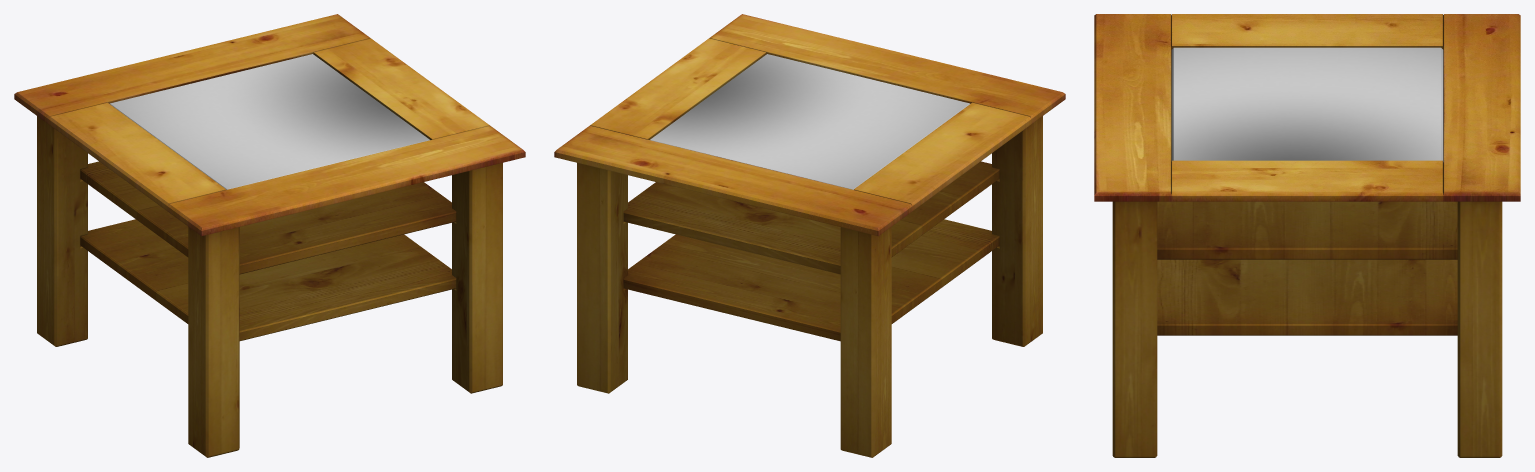
Rendered from test.glbjG2G3V37Unlz7A9Ub123.glb.
The picture shows the model from 3 angles, left to right: view 1: azimuth 30°, elevation 25°; view 2: azimuth 150°, elevation 25°; view 3: azimuth 270°, elevation 25°; orthographic projection. The views are drawn at different scales.
Parts seen in each view (by area): view 1: Wood_Table_Cube.003; view 2: Wood_Table_Cube.003; view 3: Wood_Table_Cube.003.
Boxes of the visible parts, x1=… form: Wood_Table_Cube.003: x1=14, y1=14, x2=525, y2=457; Wood_Table_Cube.003: x1=554, y1=14, x2=1065, y2=457; Wood_Table_Cube.003: x1=1094, y1=14, x2=1520, y2=457.
Size of the model in its own units: 0.6601 by 0.4664 by 0.6601.
2 materials, 2 textured.
